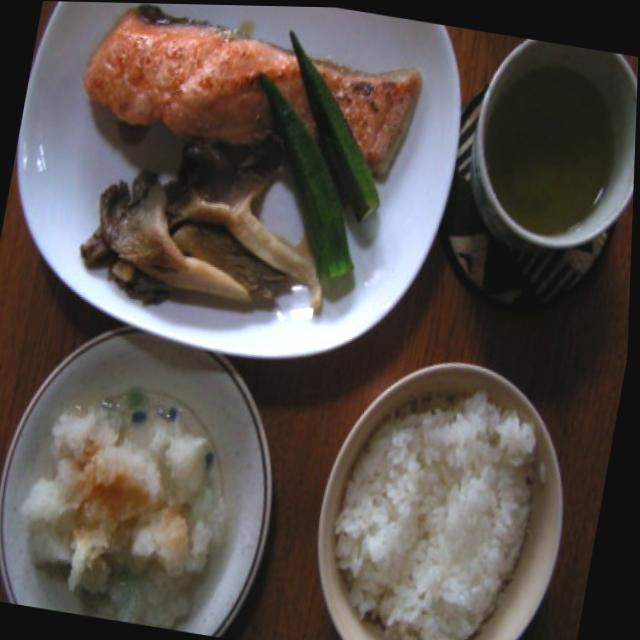熟制海鲜: (47, 1, 439, 230)
米饭主食: (300, 326, 601, 640)
